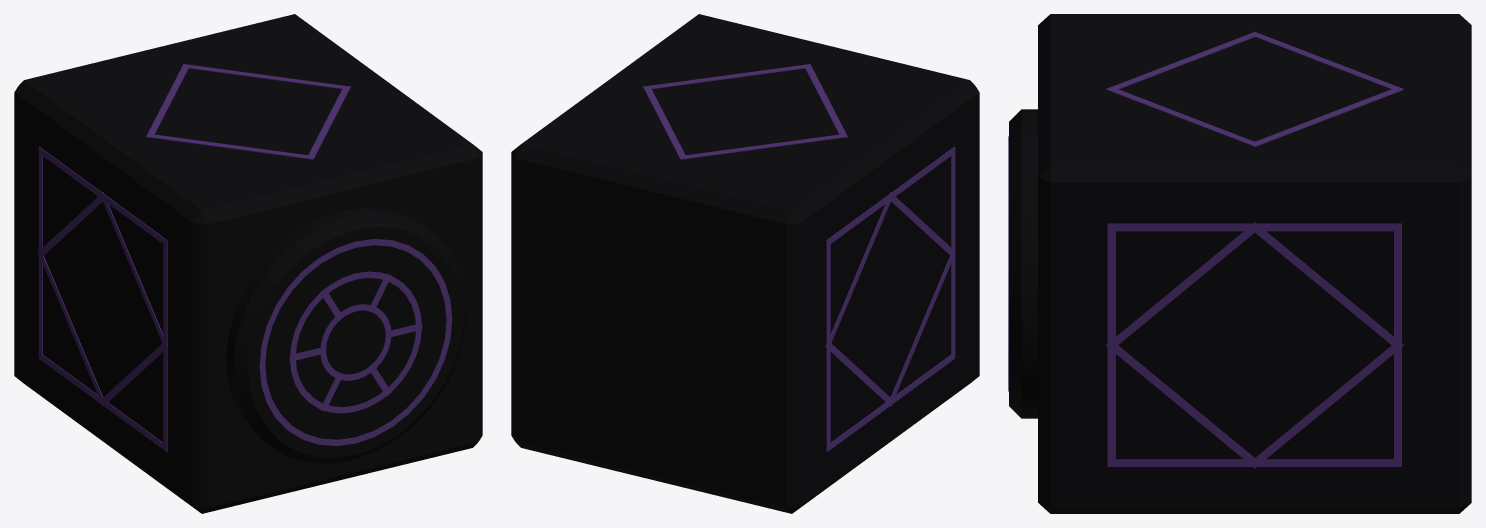
Rendered from z1_field.obj.
3 renders of one model, left to right at view 1: azimuth 30°, elevation 25°; view 2: azimuth 150°, elevation 25°; view 3: azimuth 270°, elevation 25°, orthographic. The views are drawn at different scales.
Parts seen in each view (by area): view 1: z1_field; view 2: z1_field; view 3: z1_field.
Part boxes in pixels (x1,y1,x2,y2): z1_field: [14, 14, 482, 513]; z1_field: [511, 14, 979, 513]; z1_field: [1008, 14, 1471, 513].
Size of the model in its own units: 1.25 by 1.25 by 1.5.
